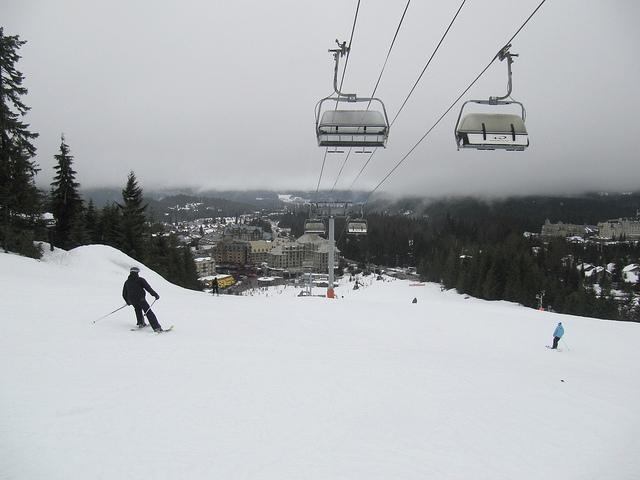car: (235, 281, 242, 286)
